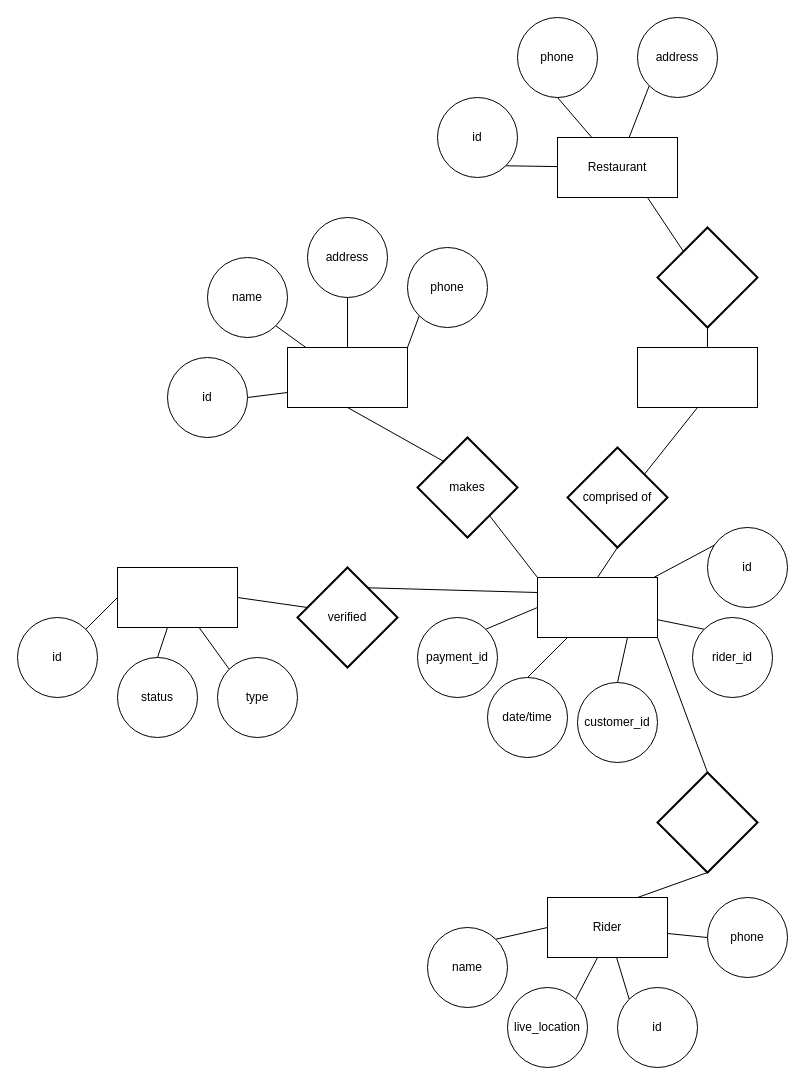
Some shapes in this 805 by 1085 pixel diagram are drawn without their labels. The box of each missing label's shape, as (x1, y1, x2, y2) in pixels:
Customer: (286, 346, 408, 408)
deliver: (656, 771, 758, 873)
Food order: (636, 346, 758, 408)
Order: (536, 576, 658, 638)
Payment: (116, 566, 238, 628)
prepare: (656, 226, 758, 328)
